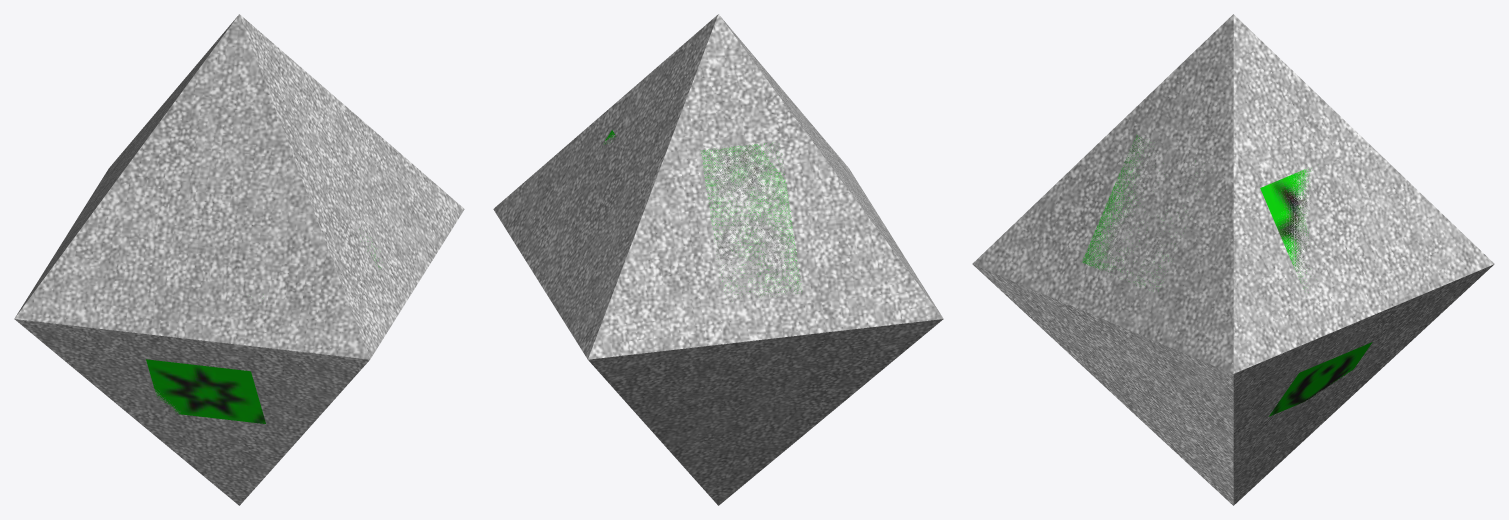
3 renders of one model, left to right at view 1: azimuth 30°, elevation 25°; view 2: azimuth 150°, elevation 25°; view 3: azimuth 270°, elevation 25°, orthographic.
Visible parts, largest first — view 1: SketchUp_001, SketchUp_002, SketchUp_003, SketchUp_009, image_5, SketchUp_005; view 2: SketchUp_001, SketchUp_005, SketchUp_006, SketchUp_004, image_2, SketchUp_002; view 3: SketchUp_001, SketchUp_003, SketchUp_004, SketchUp_008, SketchUp_007, image_0, image_1, image_6.
Part boxes in pixels (left/top/right/bottom): SketchUp_001: left=14, top=14, right=464, bottom=505; SketchUp_002: left=57, top=63, right=333, bottom=331; SketchUp_003: left=264, top=51, right=443, bottom=326; SketchUp_009: left=67, top=339, right=325, bottom=475; image_5: left=146, top=359, right=265, bottom=423; SketchUp_005: left=39, top=50, right=211, bottom=282; SketchUp_001: left=493, top=14, right=943, bottom=505; SketchUp_005: left=625, top=64, right=898, bottom=330; SketchUp_006: left=618, top=333, right=907, bottom=485; SketchUp_004: left=516, top=53, right=692, bottom=324; image_2: left=701, top=143, right=801, bottom=296; SketchUp_002: left=746, top=50, right=918, bottom=282; SketchUp_001: left=972, top=14, right=1494, bottom=505; SketchUp_003: left=1007, top=55, right=1215, bottom=342; SketchUp_004: left=1252, top=58, right=1457, bottom=340; SketchUp_008: left=1002, top=284, right=1218, bottom=484; SketchUp_007: left=1256, top=295, right=1448, bottom=472; image_0: left=1260, top=168, right=1311, bottom=288; image_1: left=1268, top=342, right=1372, bottom=416; image_6: left=1082, top=135, right=1160, bottom=286.
Bounding box in the file's own units: 0.5622 × 0.5648 × 0.5866.
